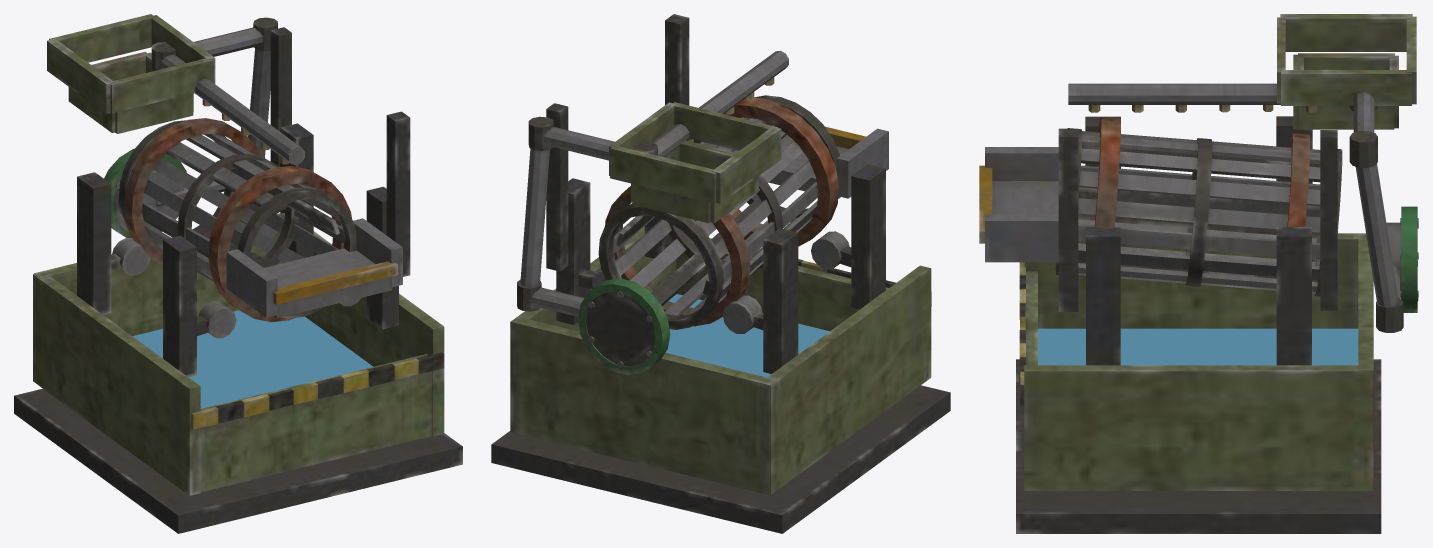
Rendered from feWasher.glb.
3 views of the same model, side by side, from view 1: azimuth 30°, elevation 25°; view 2: azimuth 150°, elevation 25°; view 3: azimuth 270°, elevation 25° (orthographic). The views are drawn at different scales.
Parts seen in each view (by area): view 1: feWasher_Base, FeWorkSpin_x0.5_Trommel, FeSurface_r0.10_Water; view 2: feWasher_Base, FeWorkSpin_x0.5_Trommel, FeSurface_r0.10_Water; view 3: feWasher_Base, FeWorkSpin_x0.5_Trommel, FeSurface_r0.10_Water.
Part boxes in pixels (x1=…): feWasher_Base: x1=14, y1=14, x2=462, y2=533; FeWorkSpin_x0.5_Trommel: x1=118, y1=118, x2=356, y2=322; FeSurface_r0.10_Water: x1=132, y1=310, x2=373, y2=408; feWasher_Base: x1=491, y1=14, x2=950, y2=533; FeWorkSpin_x0.5_Trommel: x1=598, y1=95, x2=839, y2=329; FeSurface_r0.10_Water: x1=665, y1=294, x2=829, y2=377; feWasher_Base: x1=979, y1=14, x2=1418, y2=533; FeWorkSpin_x0.5_Trommel: x1=1055, y1=117, x2=1342, y2=296; FeSurface_r0.10_Water: x1=1038, y1=328, x2=1358, y2=365.
Size of the model in its own units: 0.8412 by 0.993 by 1.01.
Materials: 2 (1 with a texture image).
